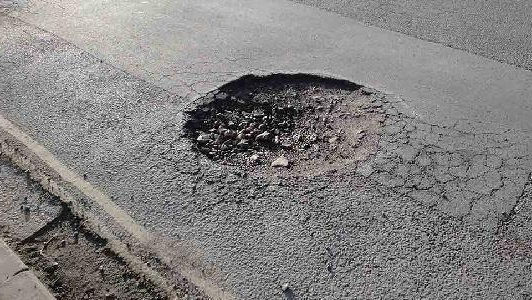pothole: (173, 69, 412, 174), (12, 204, 178, 300)
